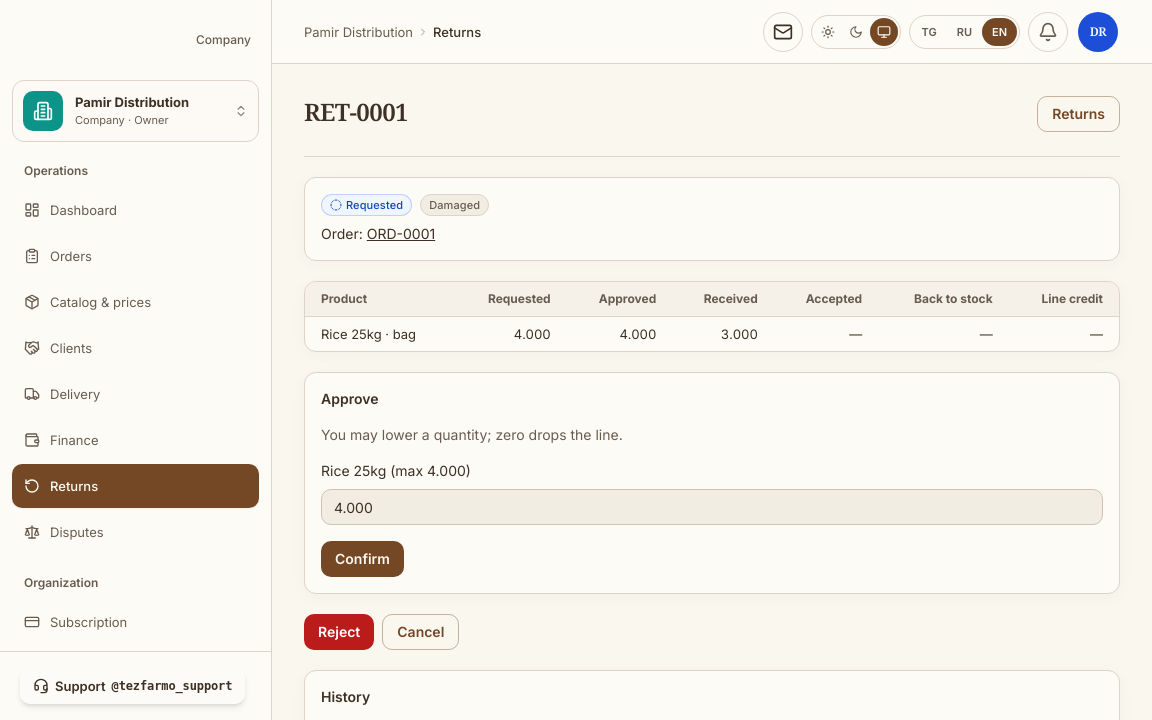
Scenario: company return queue and completion › makes the company explain a cancellation and the store not (P10 §7)
The width and height of the screenshot is (1152, 720).
Click the button "Cancel" at coordinates (421, 632), box [382, 614, 459, 650]
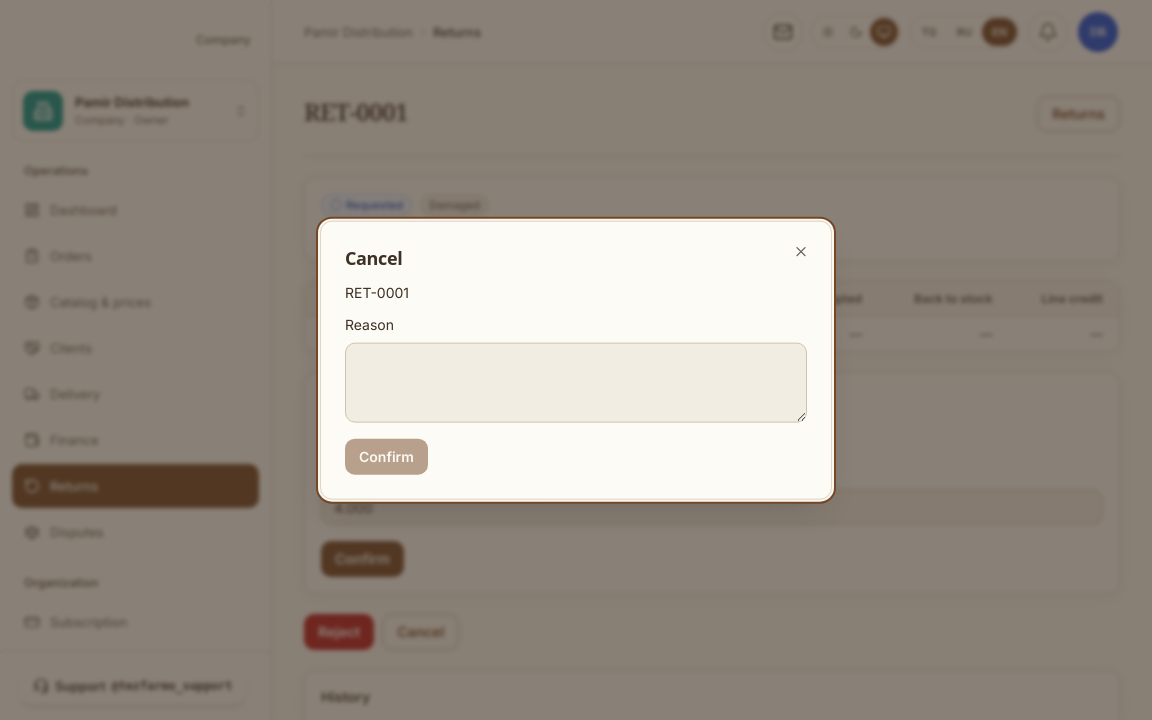
expect the text "Reason" is shown: met, box [345, 314, 807, 422]
expect the button "Confirm" is disabled: met, box [345, 438, 428, 474]
